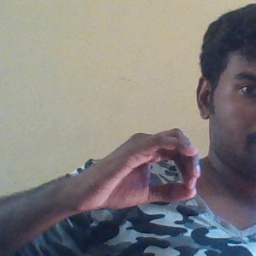O: (73, 127, 203, 210)
